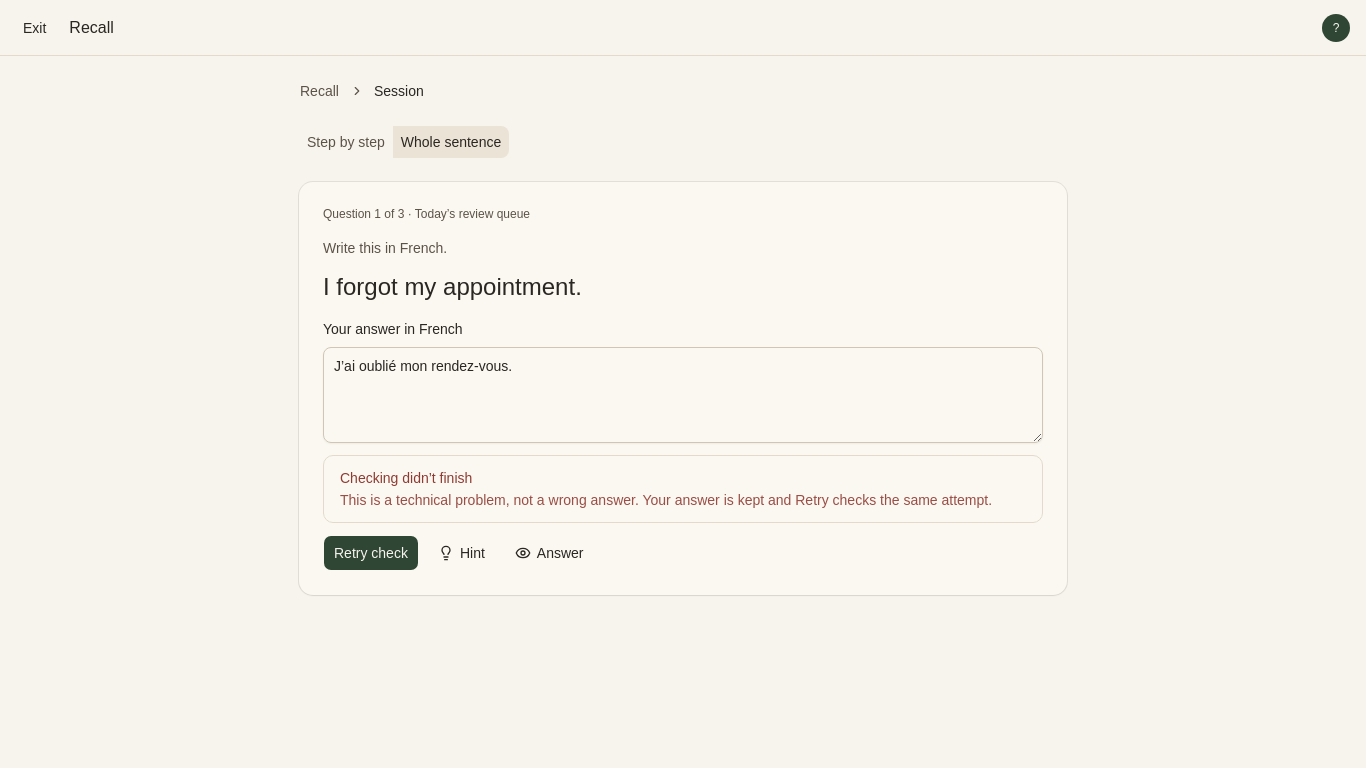
Test: 1. same-attempt retry must not hide a reveal › Exercise: techfail → Show answer → Retry check records Answer known with attempt count still 1
The width and height of the screenshot is (1366, 768).
Click the button "Answer": point(549, 553) [504,535,594,571]
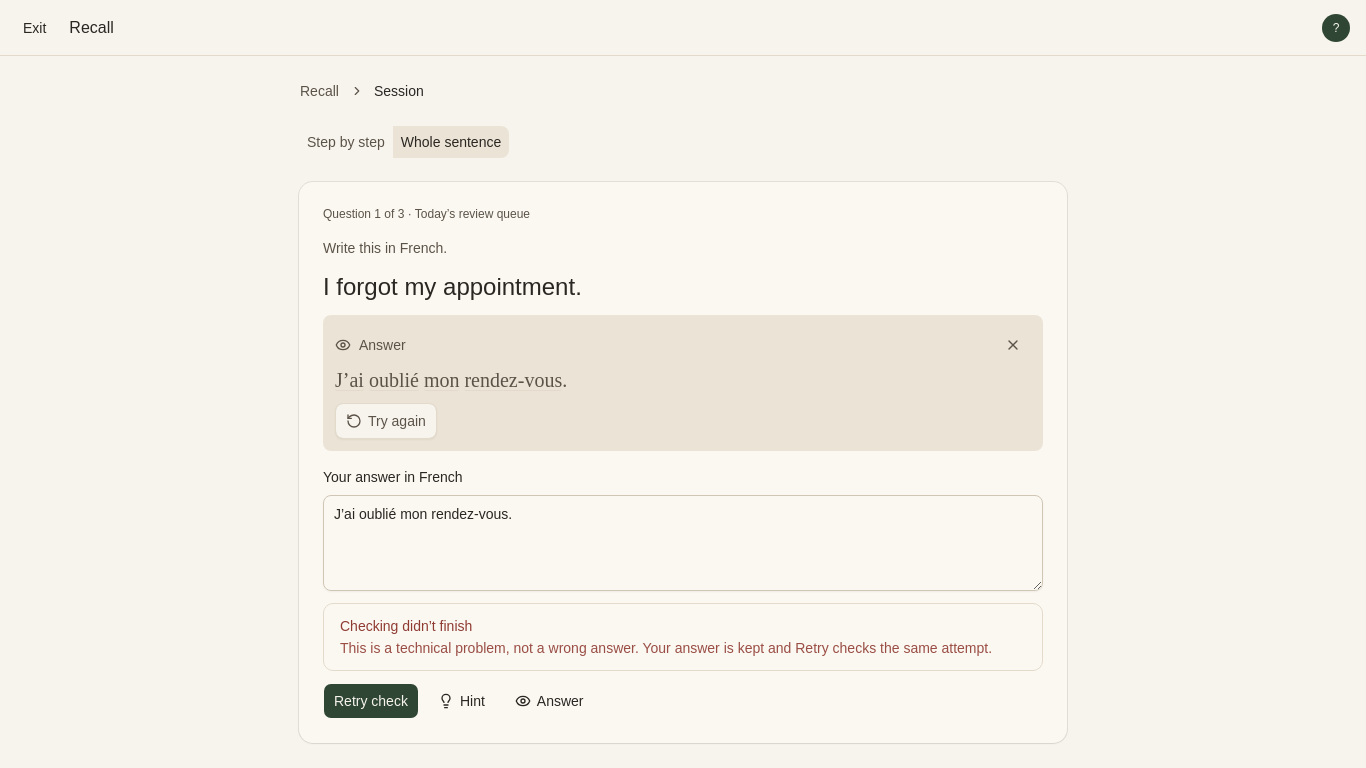
Click the button "Retry check": point(371, 700) [323,682,419,718]
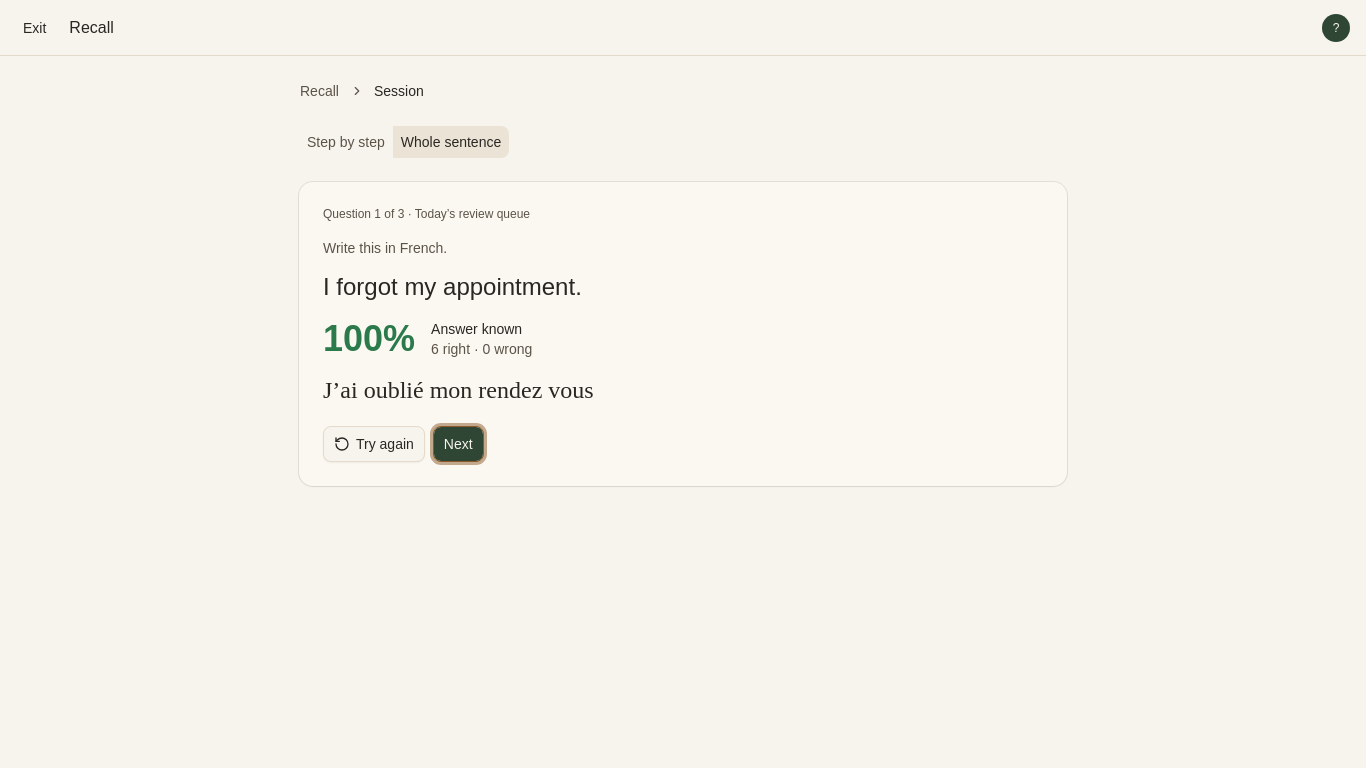
Now the element that starts with "Exit" shows "Answer known", box [431,321,522,337]
